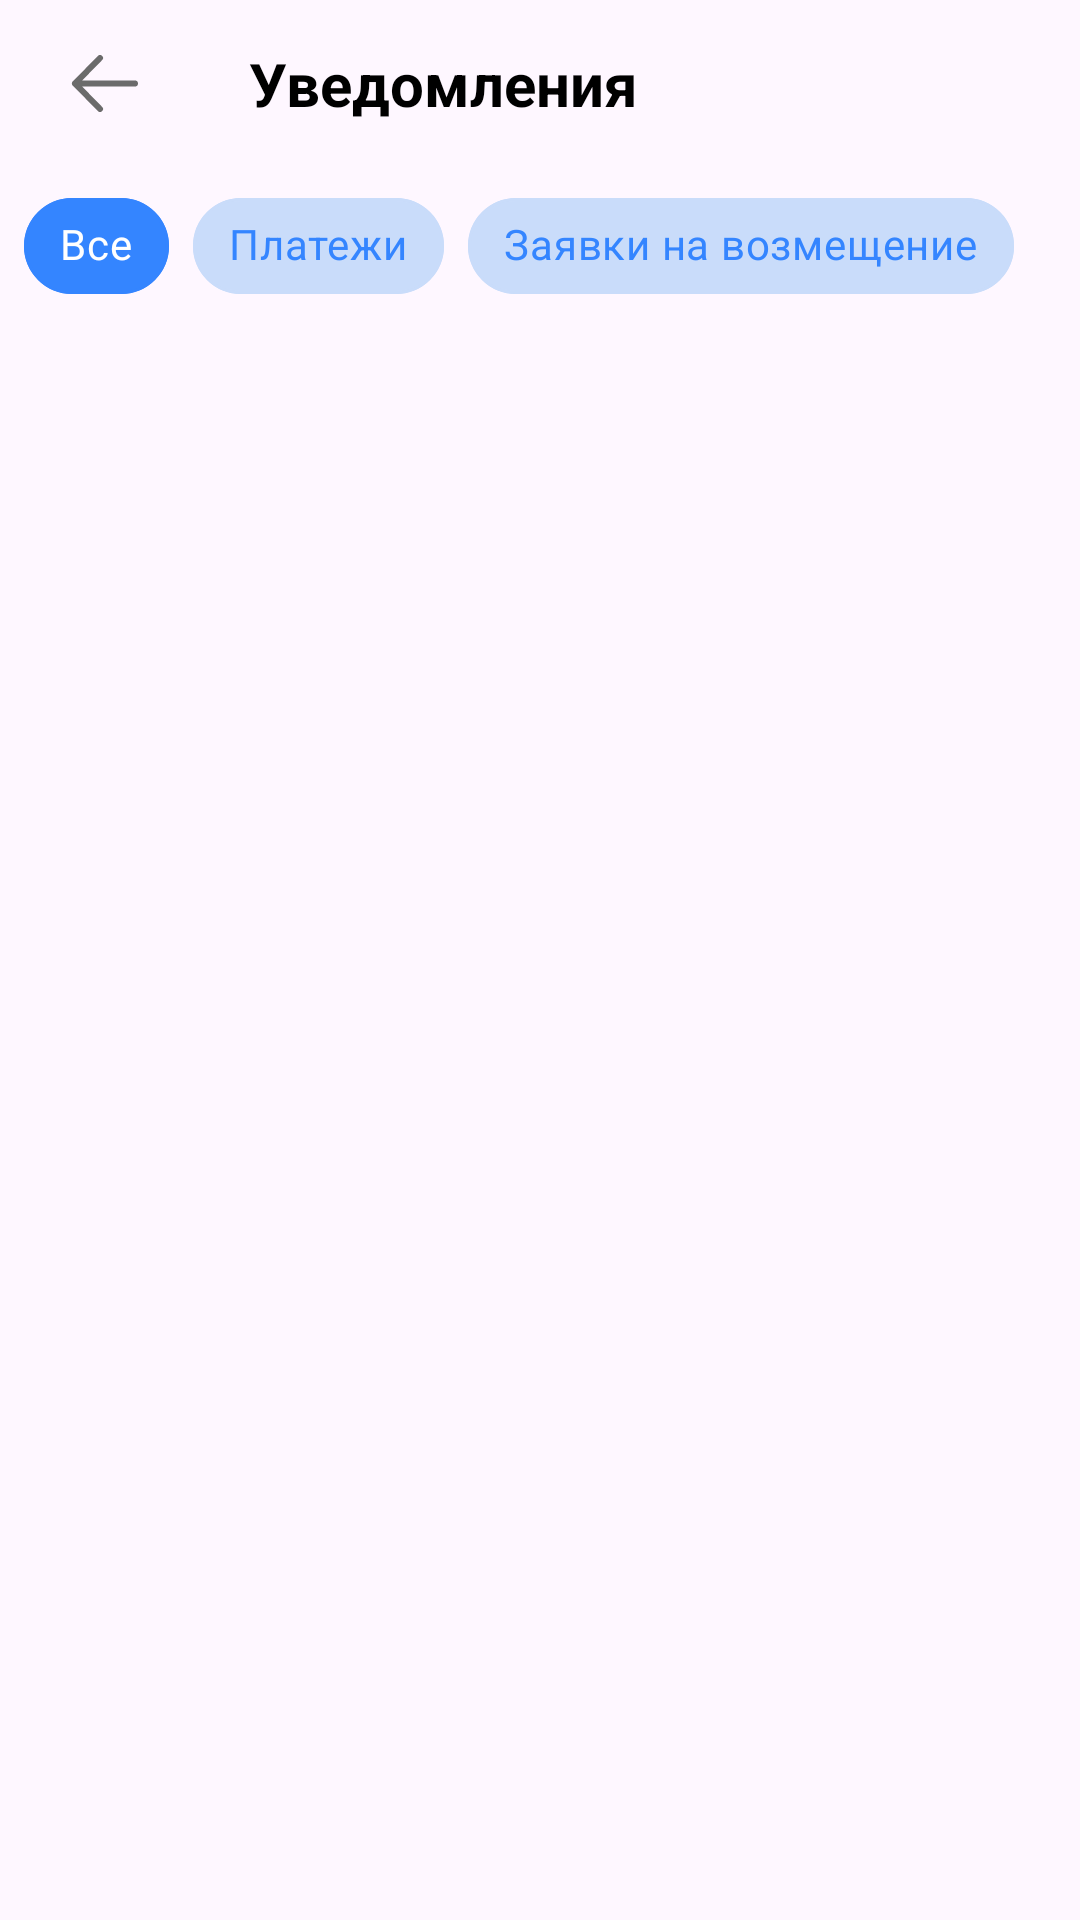

Icon click points for this 1080*1920 phone screenshot, format point (x, y):
Назад: point (105, 83)
